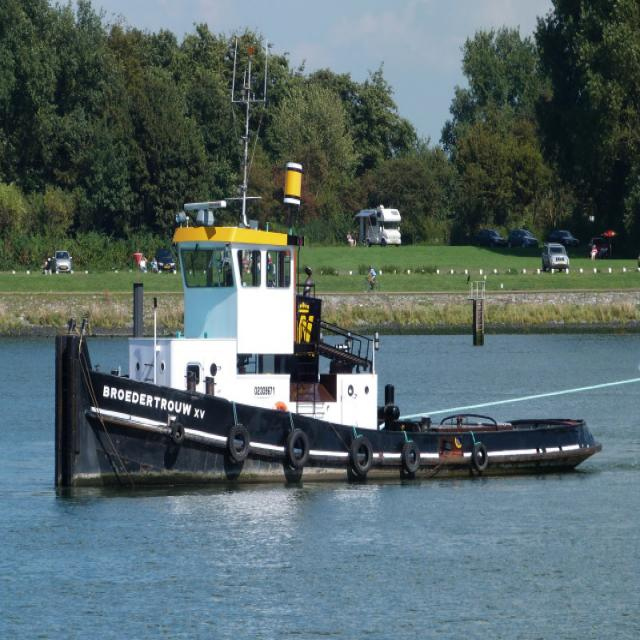tugboat: (53, 36, 607, 523)
